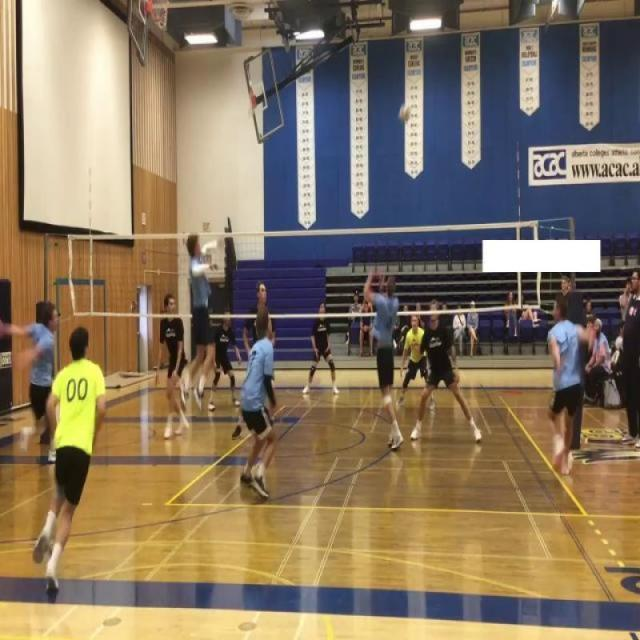volleyball: (398, 101, 411, 124)
